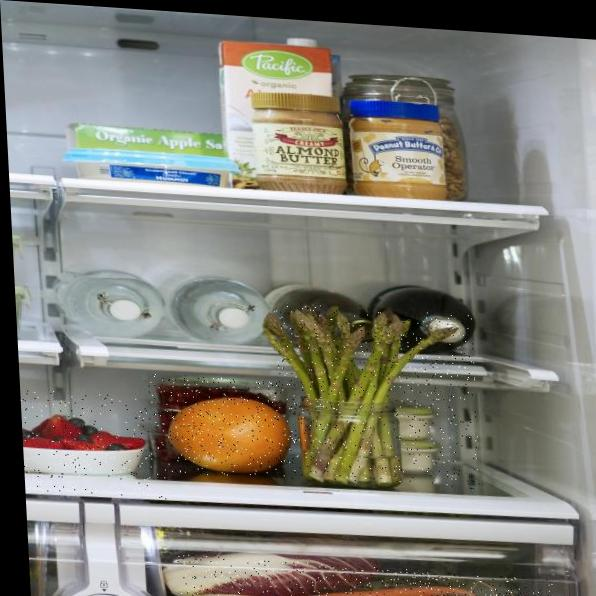asparagus: (274, 302, 481, 490)
carrots: (177, 554, 555, 596)
orange: (147, 373, 306, 483)
strawberries: (20, 389, 166, 500)
